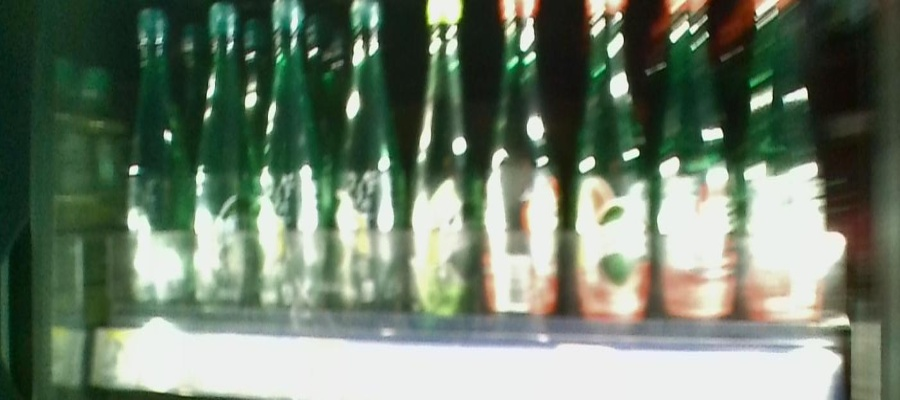bottle: (573, 2, 652, 332), (330, 7, 405, 327), (485, 1, 559, 319), (743, 7, 815, 326), (662, 1, 731, 330), (257, 5, 321, 324), (126, 9, 190, 306), (416, 1, 471, 333), (194, 5, 249, 318)
